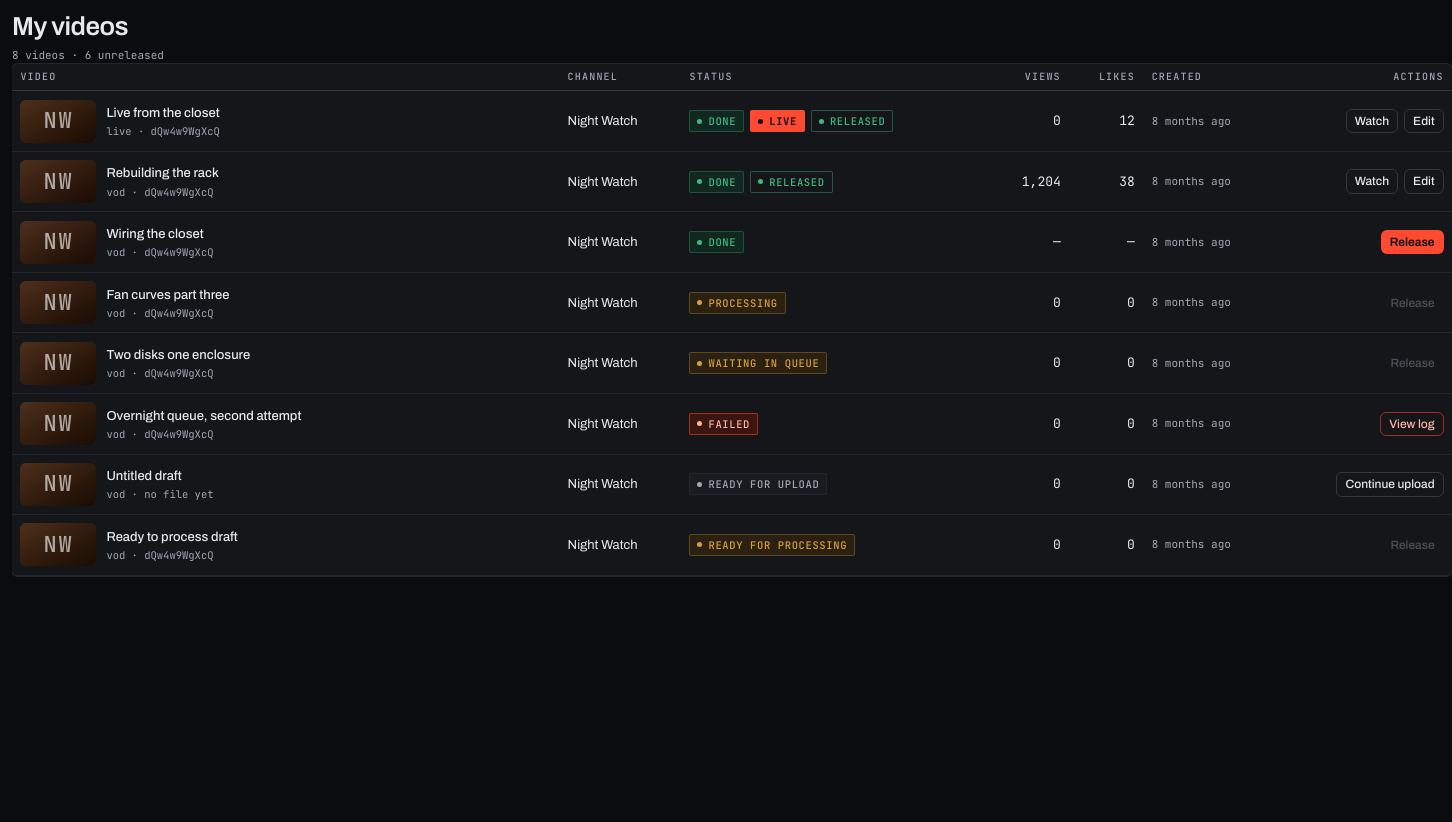
Test: My videos › opens the ffmpeg log drawer from a failed row, raw and unedited
Expected: the text "Overnight queue, second attempt" is shown, [106,406,301,426]
Click the button "View log".
click(1412, 424)  # box [1380,412,1444,436]
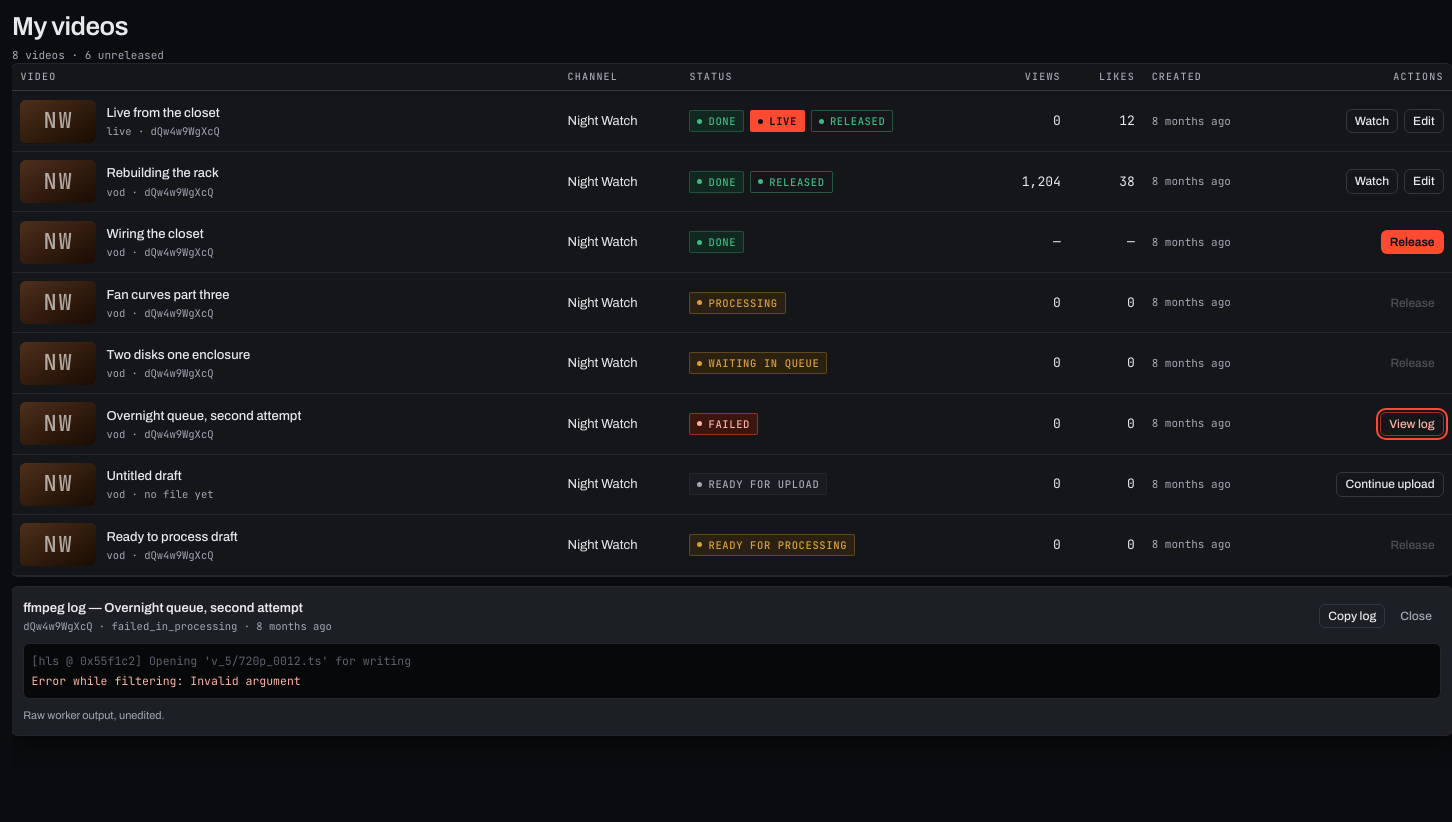
Result: the text "ffmpeg log — Overnight queue, second attempt" is shown at [23,598,332,618]
Result: the element with class "log" shows "Opening" at [32,653,411,668]
Click the button "Close".
click(1416, 616)  # box [1391,604,1441,628]
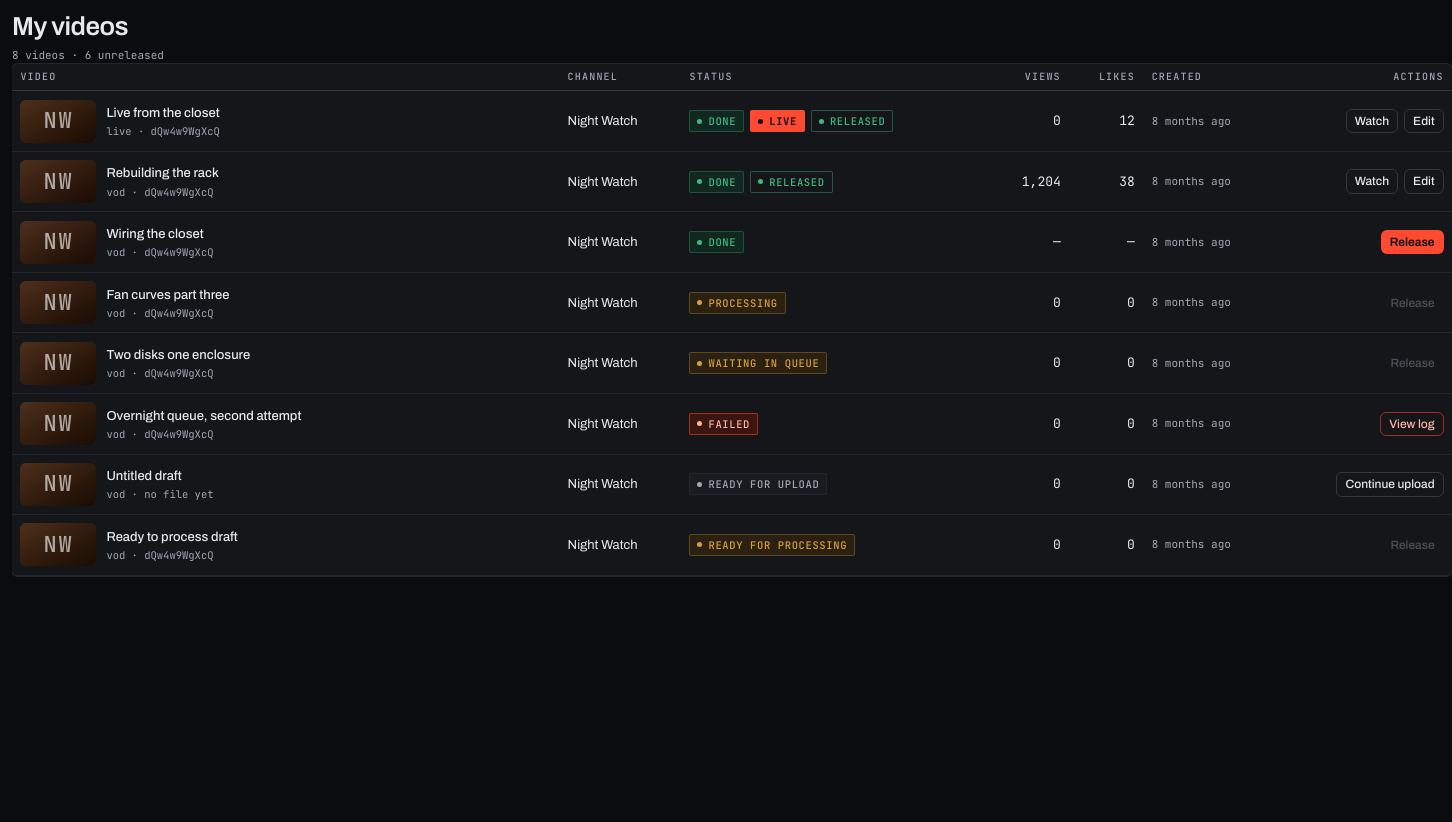
Result: the element with class "log" is gone
